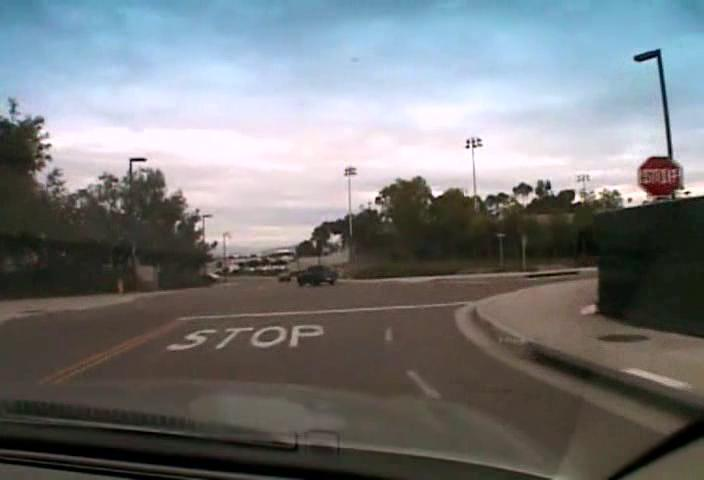stop: (637, 155, 681, 197)
